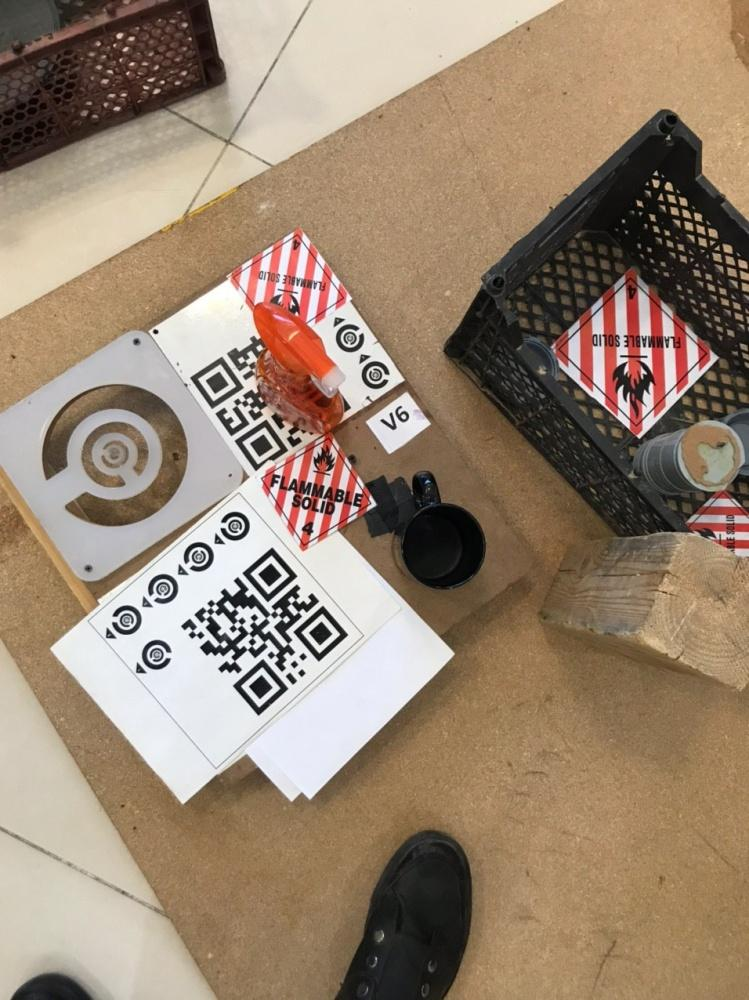flammable-solid: (556, 268, 719, 432), (229, 226, 355, 333), (262, 430, 371, 543), (691, 490, 749, 550)
